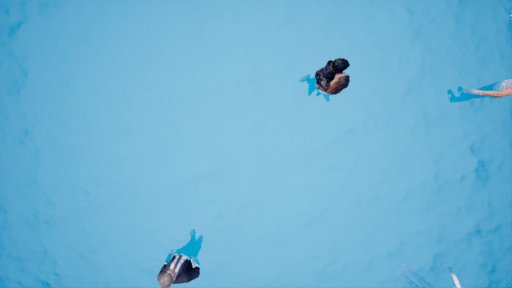person: (154, 226, 210, 288), (293, 55, 354, 106), (442, 69, 512, 105)
